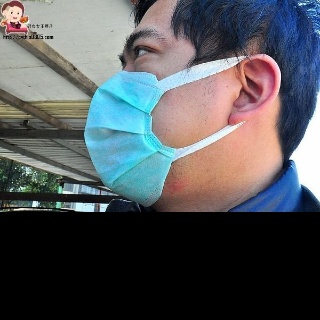with_mask: (82, 27, 225, 208)
